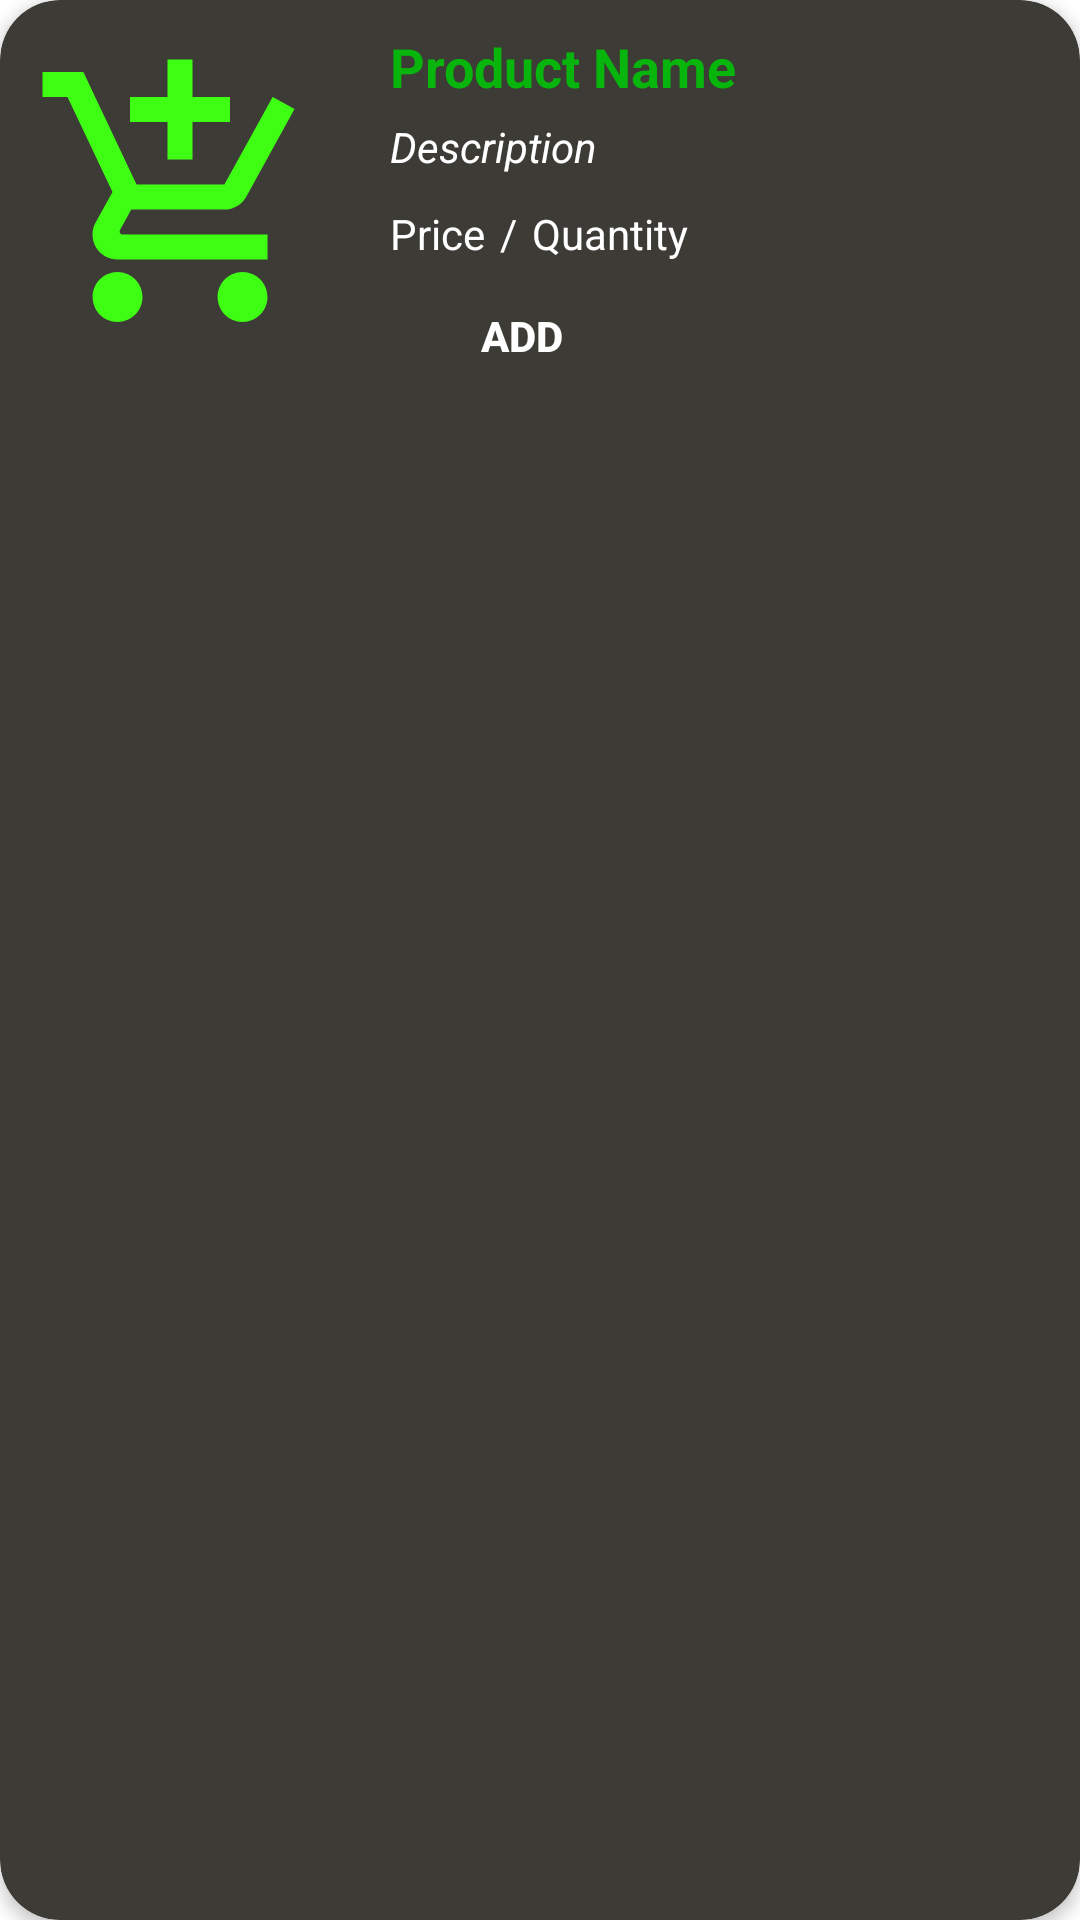

Icons on this 1080 x 1920 Android screen, each with the point to tap as [x,y]:
add shopping cart: [168,190]
